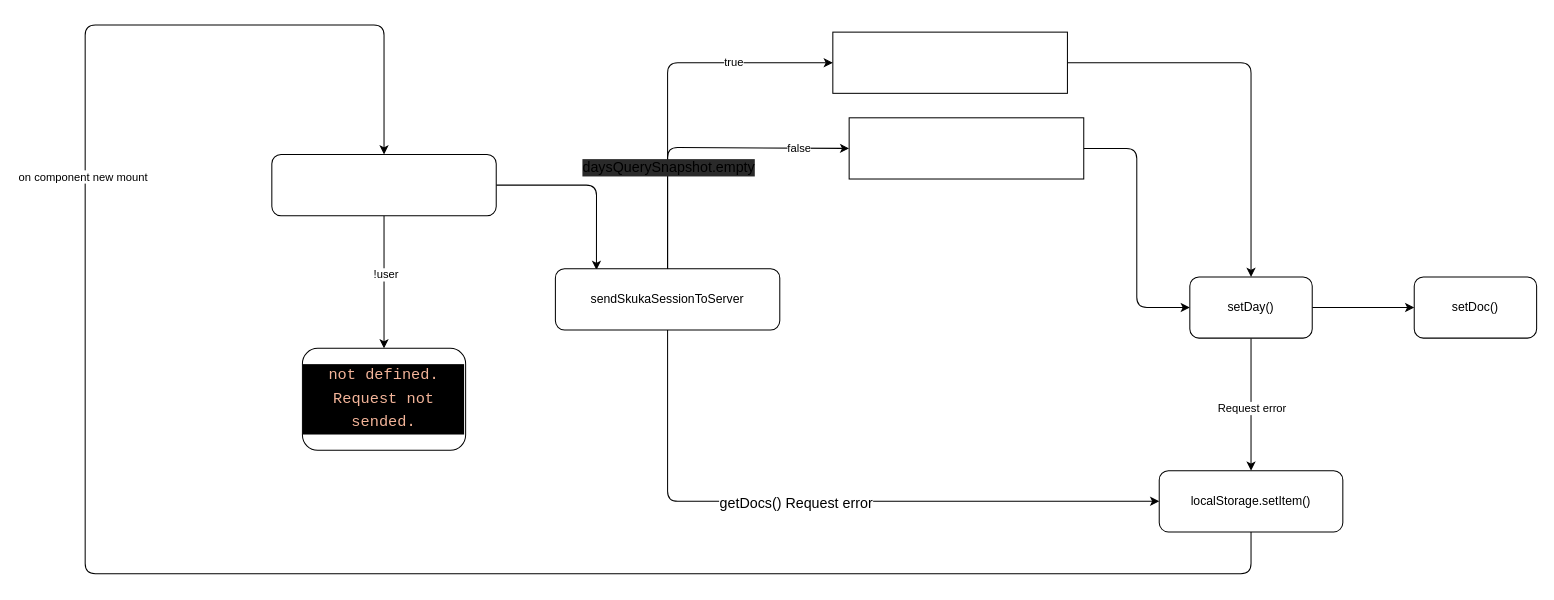
This 1554x600 diagram has some shape labels left out. The shapes that lost their labels are listed below. From the top down, each one's centre as x and y in pixels, then its label:
pixel 949 62: createNewDay()
pixel 966 148: updateExistingDay()
pixel 383 185: sendSessionFromSeconds()
